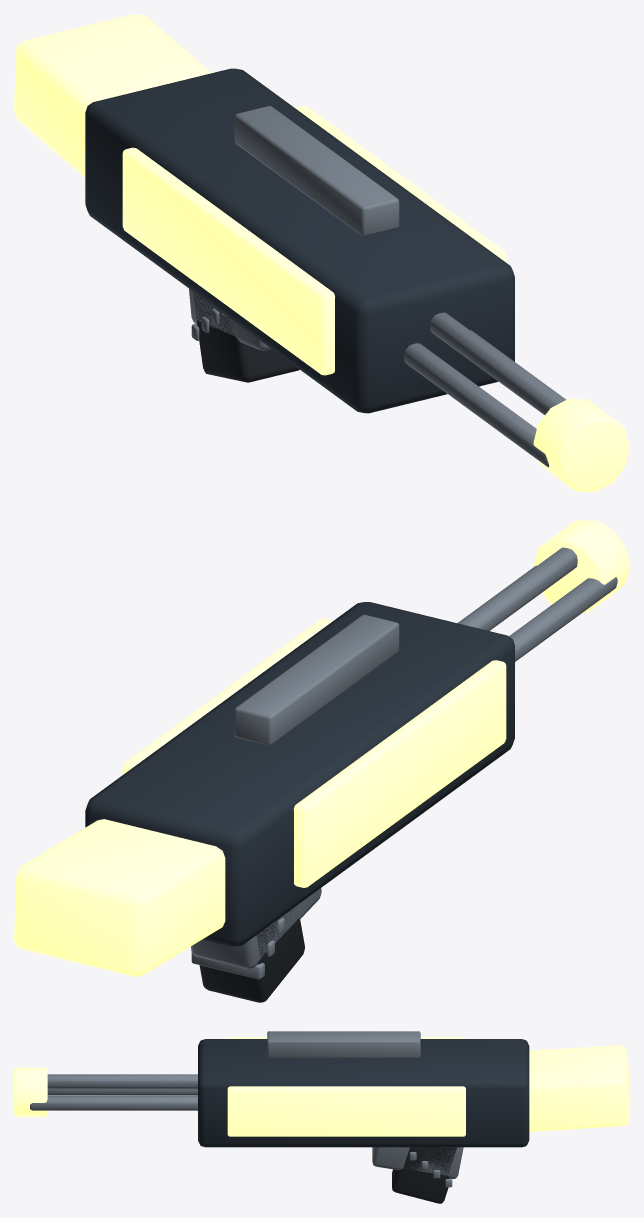
The model's file is Juggernaut_X1LMG.fbx.
3 views of the same model, one above another, from view 1: azimuth 30°, elevation 25°; view 2: azimuth 150°, elevation 25°; view 3: azimuth 270°, elevation 25° (orthographic). The views are drawn at different scales.
Visible parts, largest first — view 1: Receiver.013, SideArmorLeft.006, Stock.006, TopRail.013, MuzzleBrake.006, Barrel_00.006, Grip.013, Barrel_01, SideArmorRight.006, Magazine.002; view 2: Receiver.013, Stock.006, SideArmorLeft.006, TopRail.013, MuzzleBrake.006, Grip.013, Barrel_01, Barrel_00.006, Magazine.002, SideArmorRight.006, GripRib_03.013; view 3: Receiver.013, SideArmorRight.006, Stock.006, TopRail.013, Grip.013, Barrel_02, Barrel_01, MuzzleBrake.006, Magazine.002, Barrel_00.006.
Part boxes in pixels (x1=…): Receiver.013: x1=85, y1=68, x2=514, y2=413; SideArmorLeft.006: x1=122, y1=147, x2=334, y2=375; Stock.006: x1=14, y1=14, x2=211, y2=177; TopRail.013: x1=234, y1=106, x2=399, y2=236; MuzzleBrake.006: x1=533, y1=399, x2=629, y2=491; Barrel_00.006: x1=404, y1=343, x2=549, y2=467; Grip.013: x1=192, y1=291, x2=299, y2=382; Barrel_01: x1=430, y1=312, x2=565, y2=414; SideArmorRight.006: x1=295, y1=106, x2=506, y2=262; Magazine.002: x1=189, y1=288, x2=271, y2=350; Receiver.013: x1=85, y1=602, x2=514, y2=946; Stock.006: x1=14, y1=819, x2=225, y2=976; SideArmorLeft.006: x1=293, y1=660, x2=506, y2=887; TopRail.013: x1=234, y1=614, x2=399, y2=745; MuzzleBrake.006: x1=533, y1=520, x2=629, y2=612; Grip.013: x1=199, y1=910, x2=304, y2=1002; Barrel_01: x1=459, y1=547, x2=577, y2=630; Barrel_00.006: x1=509, y1=577, x2=617, y2=661; Magazine.002: x1=191, y1=888, x2=321, y2=968; SideArmorRight.006: x1=122, y1=618, x2=333, y2=774; GripRib_03.013: x1=191, y1=952, x2=264, y2=979; Receiver.013: x1=198, y1=1039, x2=529, y2=1147; SideArmorRight.006: x1=227, y1=1086, x2=465, y2=1136; Stock.006: x1=529, y1=1045, x2=629, y2=1131; TopRail.013: x1=267, y1=1031, x2=420, y2=1058; Grip.013: x1=392, y1=1147, x2=456, y2=1203; Barrel_02: x1=30, y1=1096, x2=197, y2=1110; Barrel_01: x1=47, y1=1074, x2=197, y2=1088; MuzzleBrake.006: x1=14, y1=1067, x2=47, y2=1116; Magazine.002: x1=372, y1=1147, x2=463, y2=1178; Barrel_00.006: x1=47, y1=1089, x2=197, y2=1095.
Bounding box in the file's own units: 128 × 179 × 623.
